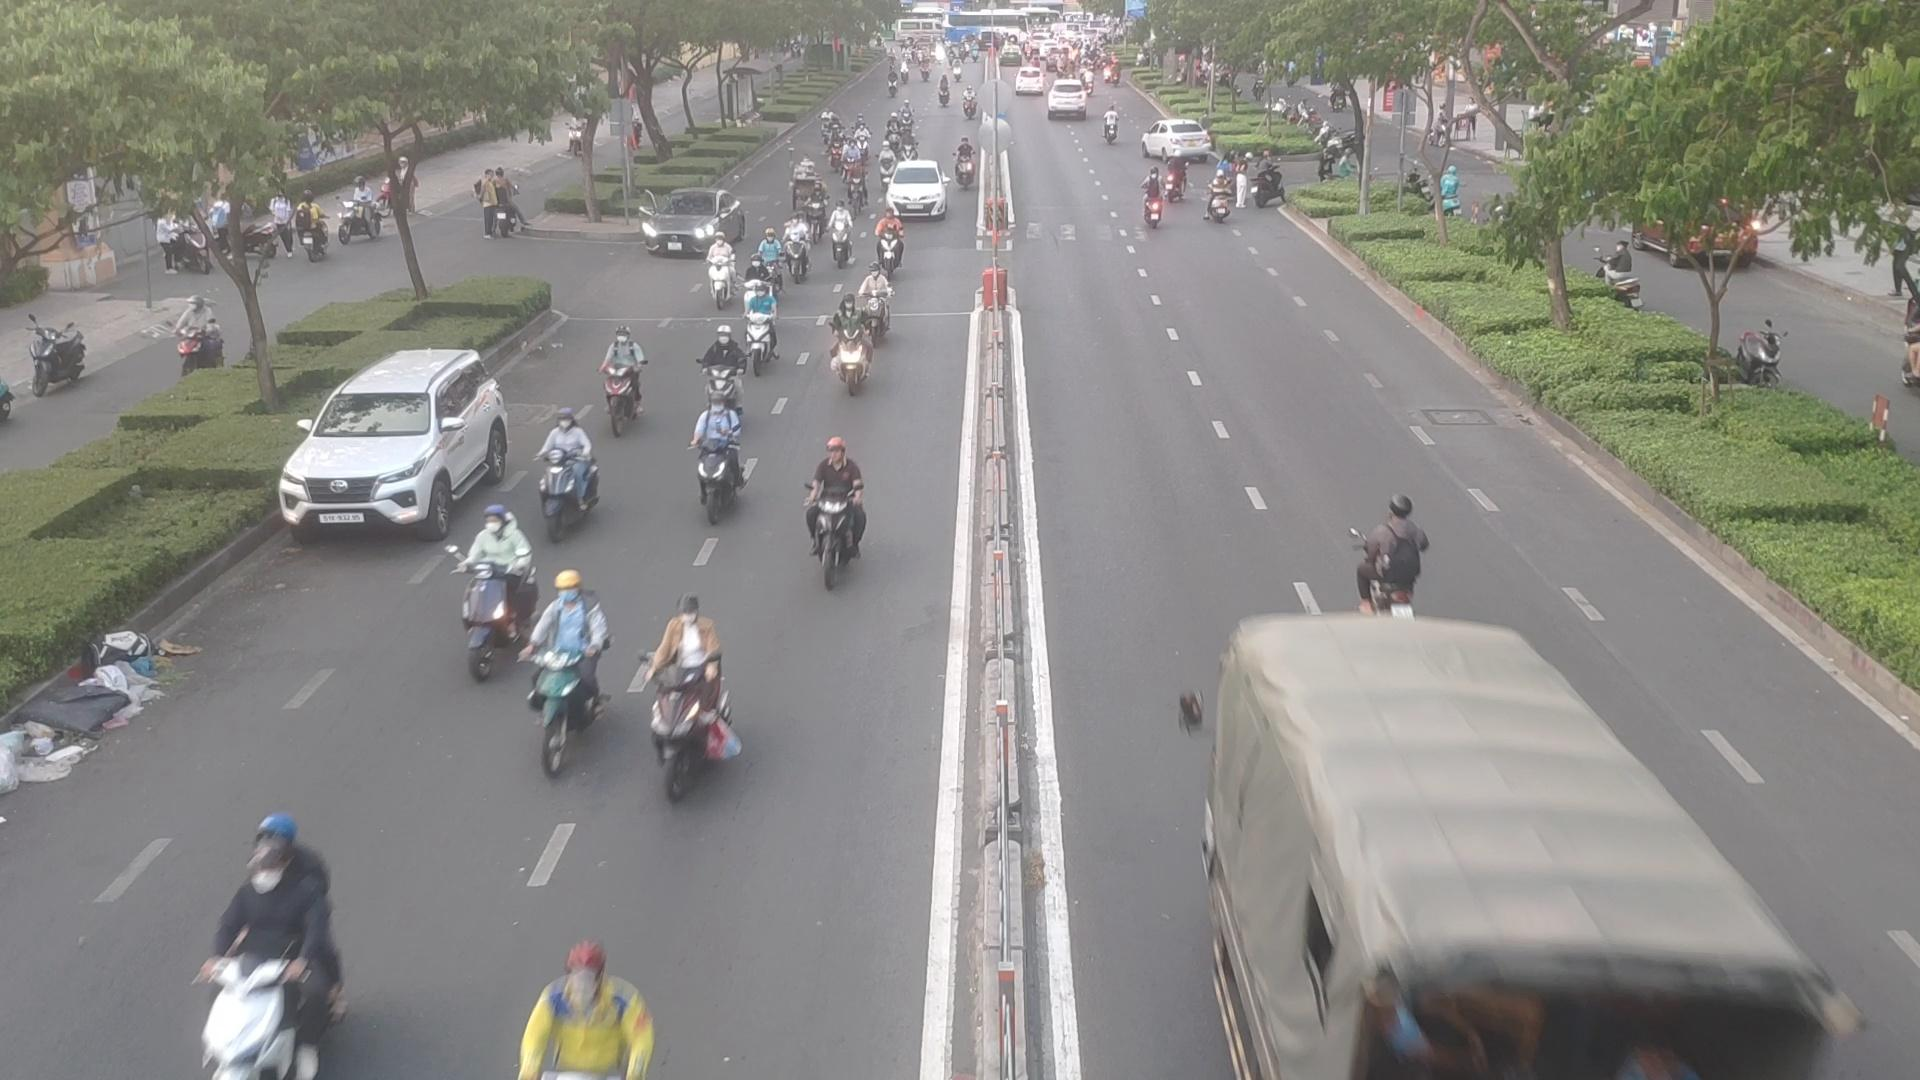car: (1185, 603, 1815, 1080), (280, 353, 517, 542), (638, 191, 746, 261), (884, 164, 952, 224), (1135, 124, 1218, 160)
motorbike: (191, 825, 359, 1072), (638, 592, 738, 800), (525, 566, 613, 767), (450, 497, 530, 676), (1341, 469, 1433, 620), (694, 394, 756, 535), (531, 406, 595, 535), (804, 440, 860, 585), (593, 313, 654, 430), (742, 289, 789, 378), (856, 262, 895, 348), (837, 293, 873, 380), (698, 239, 729, 305), (779, 216, 811, 282), (877, 208, 903, 278), (828, 202, 855, 270), (1207, 169, 1232, 222), (1143, 167, 1163, 222), (1162, 153, 1182, 200), (957, 138, 975, 191), (808, 185, 825, 233), (851, 160, 865, 214), (878, 142, 895, 185), (898, 131, 915, 169), (855, 125, 872, 164), (844, 142, 857, 181), (828, 133, 843, 167)
